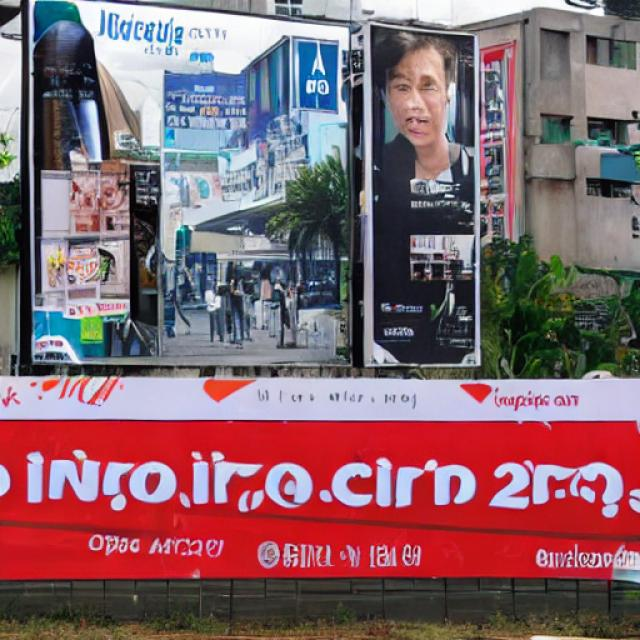Billboard: (25, 0, 482, 371)
